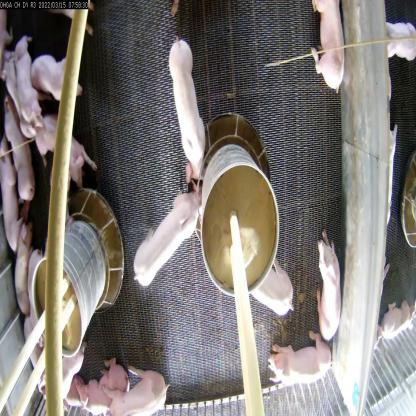Pig: (128, 180, 204, 292), (167, 35, 213, 186), (29, 107, 95, 194), (261, 326, 335, 396), (304, 1, 352, 100), (99, 351, 172, 415), (66, 351, 132, 415), (29, 42, 86, 104), (313, 226, 342, 345), (0, 137, 30, 250), (378, 288, 413, 342)
